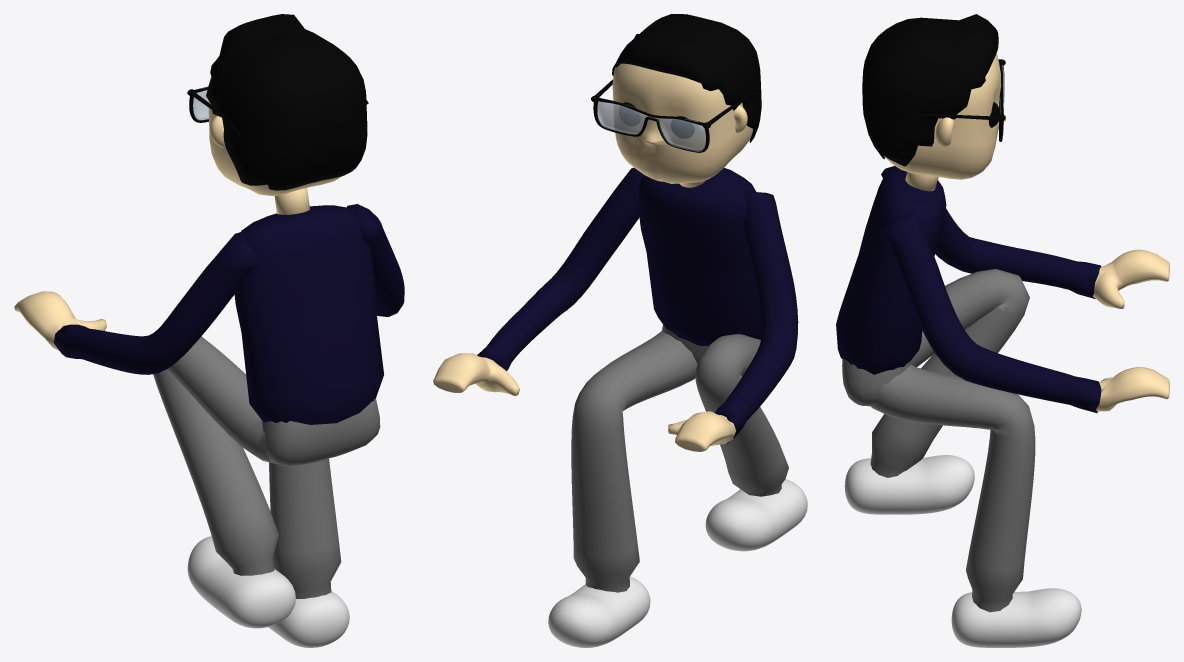
Rendered from TonyPlayer2.fbx.
3 views of the same model, side by side, from view 1: azimuth 30°, elevation 25°; view 2: azimuth 150°, elevation 25°; view 3: azimuth 270°, elevation 25° (orthographic). The views are drawn at different scales.
Visible parts, largest first — view 1: Cube.001, hair.001, BézierCurve.031, NurbsPath.003, BézierCurve.030, BézierCurve.028, Cube.014, BézierCurve.029, NurbsPath.002, NurbsPath.001, head, Cylinder.056; view 2: Cube.001, BézierCurve.030, head, NurbsPath.003, hair.001, NurbsPath.002, BézierCurve.031, BézierCurve.028, BézierCurve.029, NurbsPath, NurbsPath.001, BézierCircle.004 (+2 smaller); view 3: BézierCurve.030, hair.001, Cube.001, NurbsPath.002, BézierCurve.031, BézierCurve.029, BézierCurve.028, head, NurbsPath.003, NurbsPath.001, NurbsPath, Cube.014 (+1 smaller).
Boxes of the visible parts, x1,y1,x2,y2 form: Cube.001: (234,205,384,424); hair.001: (206,14,367,190); BézierCurve.031: (153,336,284,575); NurbsPath.003: (54,231,259,374); BézierCurve.030: (269,458,341,598); BézierCurve.028: (187,536,295,628); Cube.014: (262,398,380,465); BézierCurve.029: (268,591,349,647); NurbsPath.002: (346,204,404,316); NurbsPath.001: (14,291,106,350); head: (208,77,342,195); Cylinder.056: (274,188,309,214); Cube.001: (638,168,761,345); BézierCurve.030: (571,330,697,592); head: (612,63,752,183); NurbsPath.003: (715,191,798,443); hair.001: (612,14,761,142); NurbsPath.002: (477,167,643,370); BézierCurve.031: (695,334,788,496); BézierCurve.028: (705,479,807,551); BézierCurve.029: (548,576,650,647); NurbsPath: (433,353,519,395); NurbsPath.001: (668,411,736,451); BézierCircle.004: (591,79,759,152); BézierCurve.030: (870,364,1035,612); hair.001: (862,14,998,166); Cube.001: (836,166,946,374); NurbsPath.002: (881,211,1101,413); BézierCurve.031: (870,269,1029,477); BézierCurve.029: (951,588,1081,647); BézierCurve.028: (844,455,974,514); head: (884,53,1006,179); NurbsPath.003: (881,166,1101,299); NurbsPath.001: (1093,249,1169,308); NurbsPath: (1096,367,1169,411); Cube.014: (842,359,910,406).
Bounding box in the file's own units: 384 × 774 × 393.
